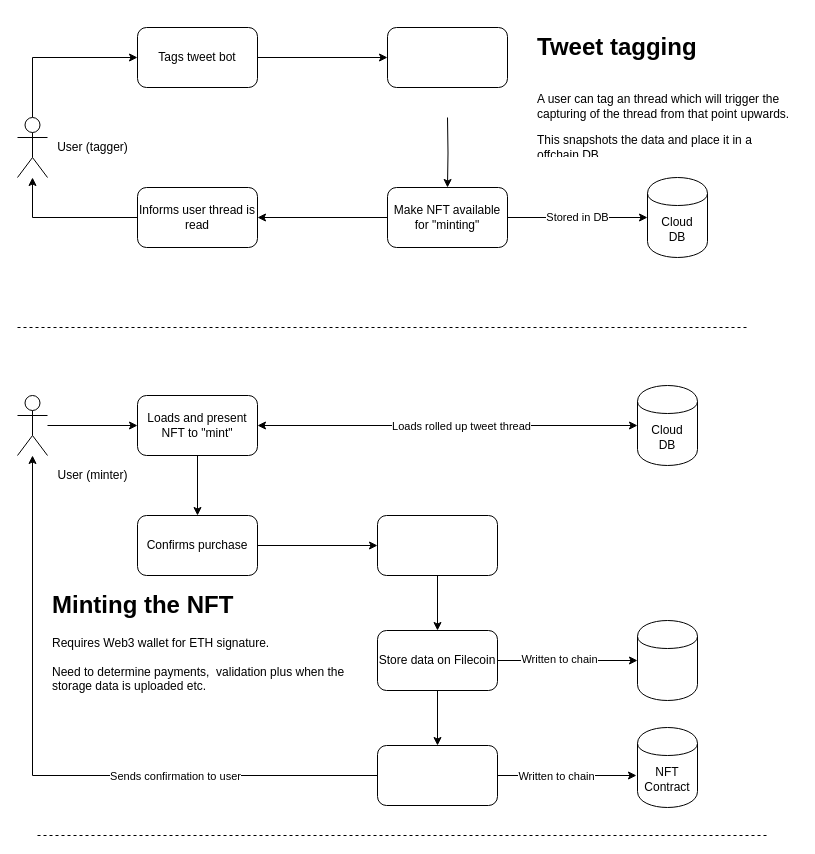
Some shapes in this 815 by 854 pixel diagram are drawn without their labels. Here are the shapes that lost their labels. From the top down, the centre of each, then its label:
At (447,57): "Parse twitter thread".
At (437,545): "Generates storage payload".
At (667,660): "Filecoin".
At (437,775): "Send TX to Ethereum".
